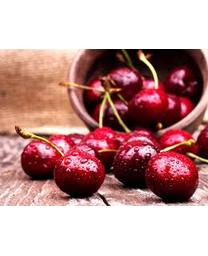cherry: (145, 150, 199, 202), (53, 150, 106, 199), (111, 138, 157, 186), (21, 137, 64, 179), (128, 88, 167, 127)
